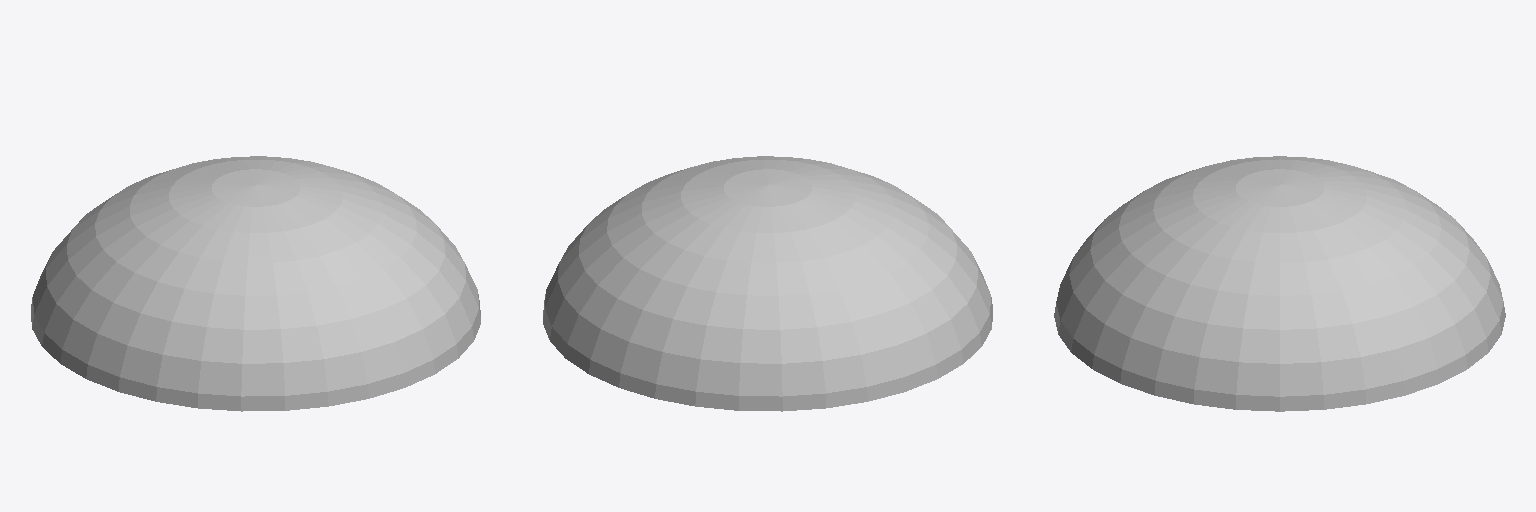
The model's file is LVL-mit-Glas.obj.
3 views of the same model, side by side, from view 1: azimuth 30°, elevation 25°; view 2: azimuth 150°, elevation 25°; view 3: azimuth 270°, elevation 25° (orthographic).
Visible parts, largest first — view 1: Skydome; view 2: Skydome; view 3: Skydome.
Part boxes in pixels (bbox=[...]): Skydome: bbox=[31, 156, 480, 411]; Skydome: bbox=[543, 156, 992, 411]; Skydome: bbox=[1054, 156, 1505, 411].
Bounding box in the file's own units: 138238 × 47738 × 138238.